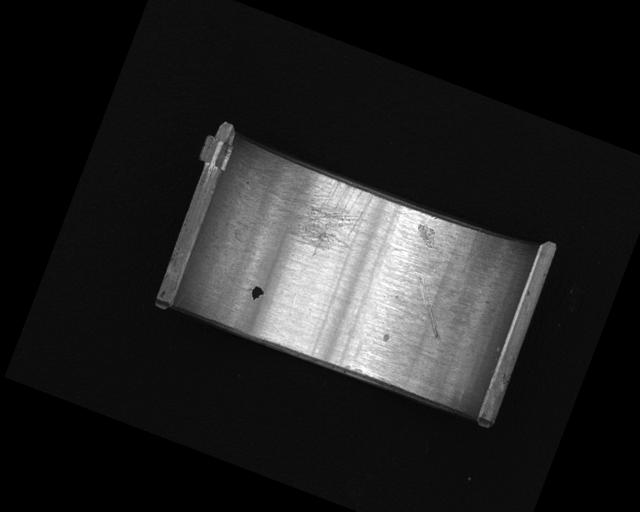blot: (248, 284, 266, 303)
bruise: (411, 221, 442, 250), (380, 331, 391, 344)
nick: (402, 275, 457, 339)
scratch: (234, 151, 375, 269)
